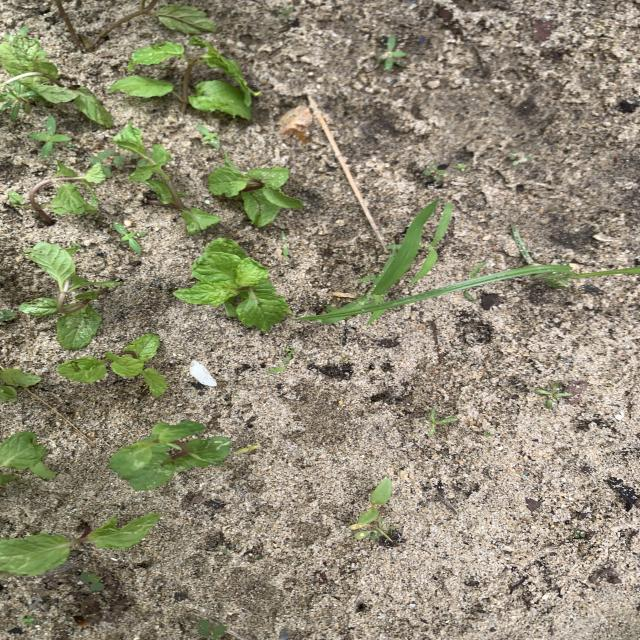crop: (115, 122, 219, 234), (20, 243, 120, 348), (128, 38, 259, 118), (175, 240, 290, 330), (1, 36, 111, 125), (0, 516, 160, 574), (110, 422, 230, 489), (209, 153, 303, 225), (59, 334, 166, 395), (9, 160, 105, 222), (1, 432, 54, 483), (1, 369, 40, 402)
weed: (398, 224, 640, 304), (297, 201, 438, 323), (411, 202, 452, 284), (30, 117, 70, 156), (358, 478, 391, 525), (1, 83, 36, 119), (378, 35, 406, 70), (114, 223, 145, 251), (424, 408, 456, 435), (536, 382, 570, 407), (269, 348, 295, 373), (90, 150, 125, 167), (198, 620, 226, 639), (198, 125, 219, 146), (372, 521, 394, 541), (81, 572, 103, 590), (422, 164, 446, 180), (279, 8, 295, 19), (235, 446, 259, 453), (1, 310, 16, 320), (573, 529, 586, 538), (23, 617, 35, 623)
